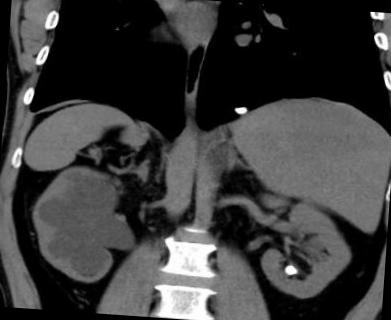Tas_Var: (280, 264, 300, 279)
